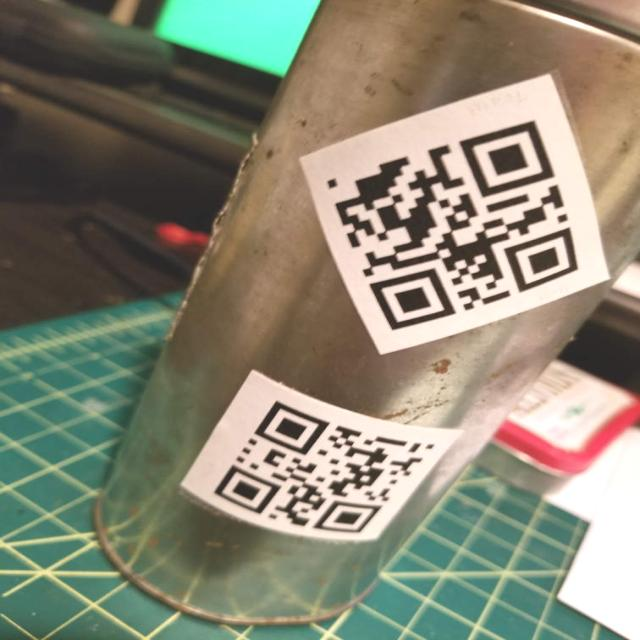QRCode: (291, 91, 597, 338), (210, 379, 446, 541)
